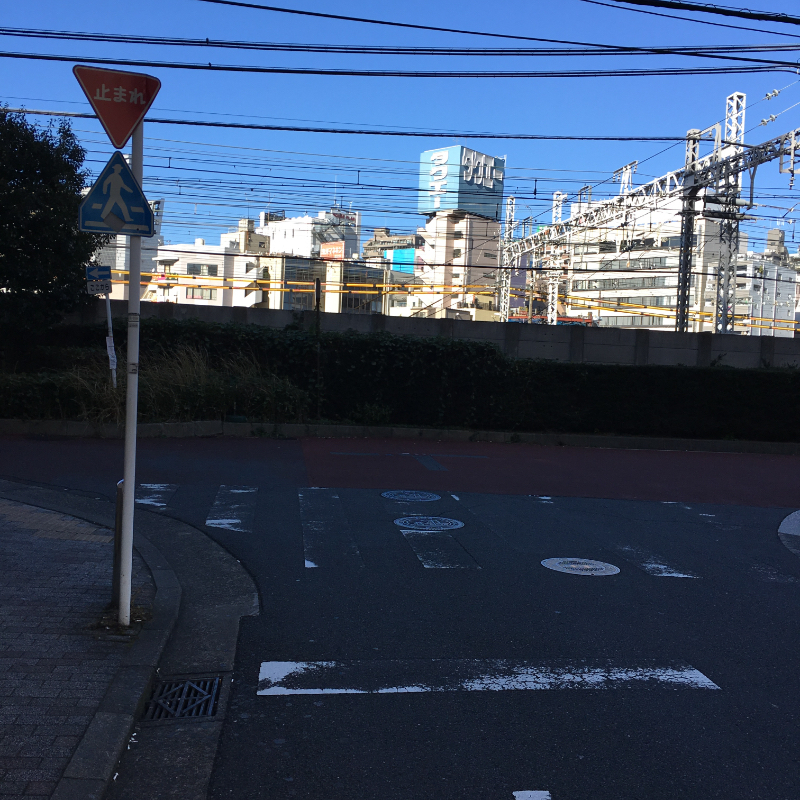STOP: (69, 65, 164, 151)
